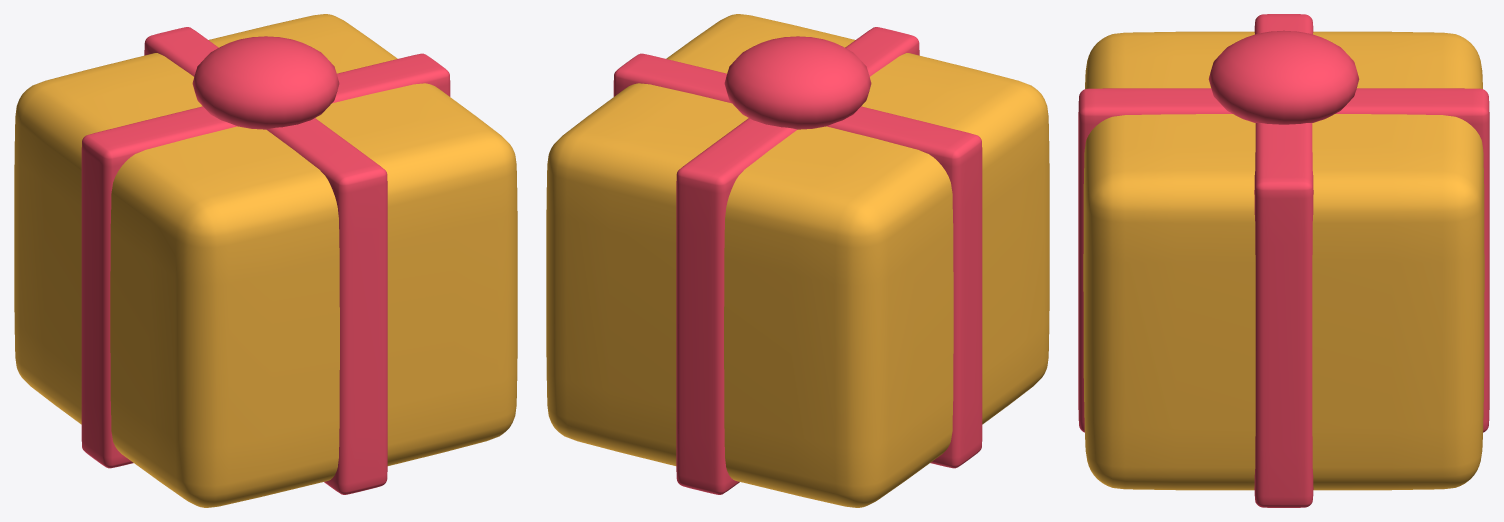
Rendered from Crate.glb.
3 renders of one model, left to right at view 1: azimuth 30°, elevation 25°; view 2: azimuth 150°, elevation 25°; view 3: azimuth 270°, elevation 25°, orthographic. The views are drawn at different scales.
Parts seen in each view (by area): view 1: Cube, Cube.002, Cube.001, Sphere; view 2: Cube, Cube.002, Cube.001, Sphere; view 3: Cube, Cube.001, Cube.002, Sphere.
Boxes of the visible parts, left/top/right/bottom form: Cube: left=14, top=14, right=517, bottom=507; Cube.002: left=144, top=27, right=387, bottom=494; Cube.001: left=81, top=53, right=450, bottom=468; Sphere: left=192, top=36, right=339, bottom=129; Cube: left=546, top=14, right=1049, bottom=507; Cube.002: left=676, top=27, right=919, bottom=494; Cube.001: left=613, top=53, right=982, bottom=468; Sphere: left=724, top=36, right=871, bottom=129; Cube: left=1083, top=31, right=1484, bottom=490; Cube.001: left=1254, top=14, right=1313, bottom=507; Cube.002: left=1078, top=88, right=1489, bottom=432; Sphere: left=1208, top=30, right=1359, bottom=124.
Size of the model in its own units: 0.8198 by 0.8399 by 0.8198.
